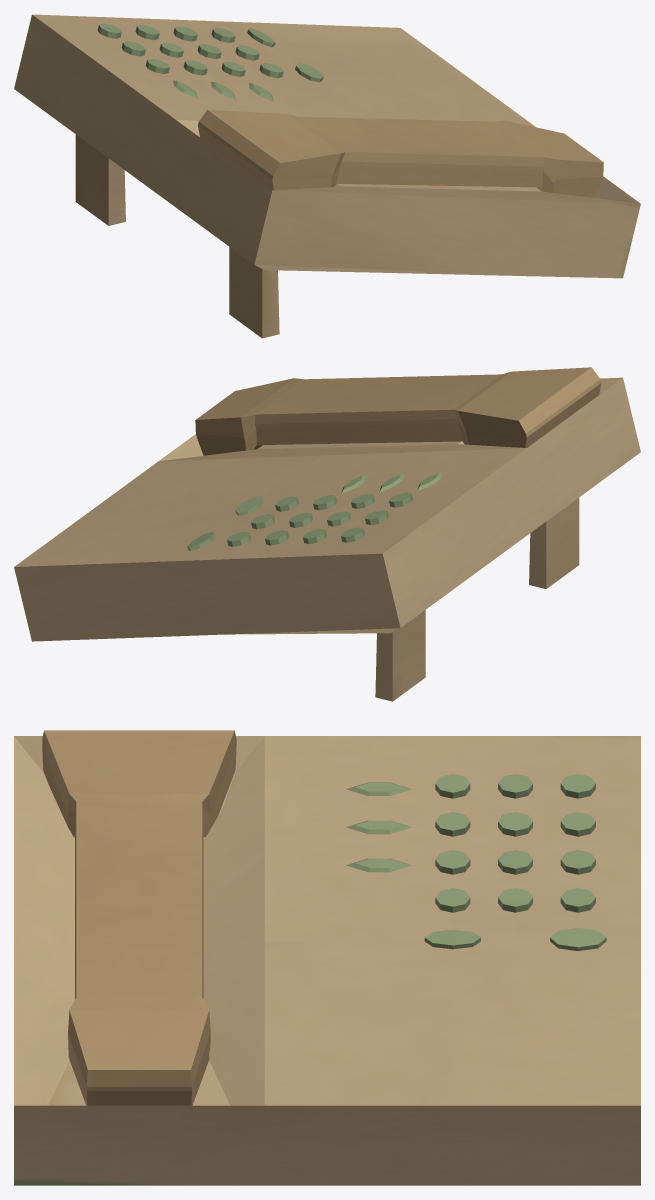
File: telefon.fbx
3 views of the same model, one above another, from view 1: azimuth 30°, elevation 25°; view 2: azimuth 150°, elevation 25°; view 3: azimuth 270°, elevation 25° (orthographic). The views are drawn at different scales.
Parts seen in each view (by area): view 1: Cube; view 2: Cube; view 3: Cube.
Part boxes in pixels (<box>): Cube: <box>14,14,640,338</box>; Cube: <box>14,367,640,701</box>; Cube: <box>14,730,640,1185</box>.
Size of the model in its own units: 22.29 by 10.54 by 24.
1 material, 1 textured.
